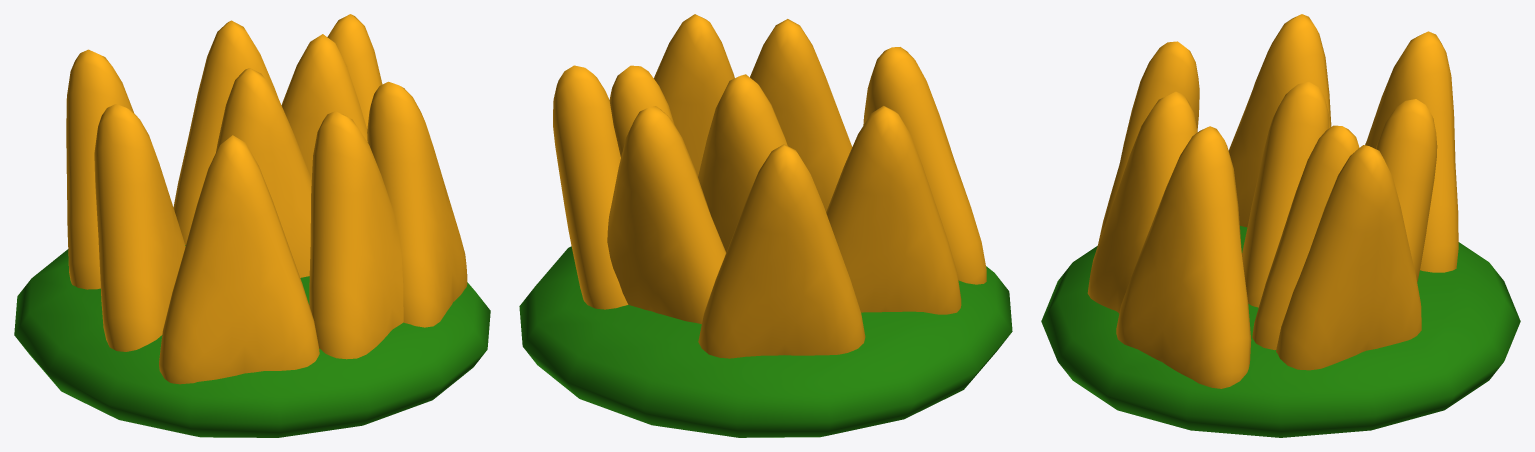
3 renders of one model, left to right at view 1: azimuth 30°, elevation 25°; view 2: azimuth 150°, elevation 25°; view 3: azimuth 270°, elevation 25°, orthographic. The views are drawn at different scales.
Visible parts, largest first — view 1: 平面.009, 平面.007, 平面.006, 平面.001, 平面.008, 平面, 平面.004, 平面.003, 平面.002, 平面.005; view 2: 平面.009, 平面.004, 平面.001, 平面.003, 平面.005, 平面.006, 平面.007, 平面, 平面.008, 平面.002; view 3: 平面.009, 平面.008, 平面.005, 平面.006, 平面.004, 平面, 平面.001, 平面.002, 平面.003, 平面.007.
Part boxes in pixels (x1,y1,x2,y2): 平面.009: (14,245,490,437); 平面.007: (159,135,319,384); 平面.006: (309,111,403,359); 平面.001: (94,104,185,351); 平面.008: (367,81,467,327); 平面: (216,68,311,277); 平面.004: (66,49,133,289); 平面.003: (173,20,278,244); 平面.002: (281,34,367,179); 平面.005: (327,14,382,128); 平面.009: (519,246,1012,437); 平面.004: (698,144,865,358); 平面.001: (826,106,961,314); 平面.003: (607,106,725,323); 平面.005: (553,65,628,309); 平面.006: (750,19,852,211); 平面.007: (863,47,986,284); 平面: (698,74,787,252); 平面.008: (654,14,734,176); 平面.002: (609,65,674,157); 平面.009: (1041,226,1520,437); 平面.008: (1116,126,1251,388); 平面.005: (1276,145,1421,370); 平面.006: (1087,91,1197,313); 平面.004: (1365,31,1458,272); 平面: (1242,82,1329,307); 平面.001: (1228,14,1331,227); 平面.002: (1252,125,1359,350); 平面.003: (1375,99,1437,281); 平面.007: (1098,41,1199,244).
Size of the model in its own units: 98.74 by 68.39 by 98.74.
